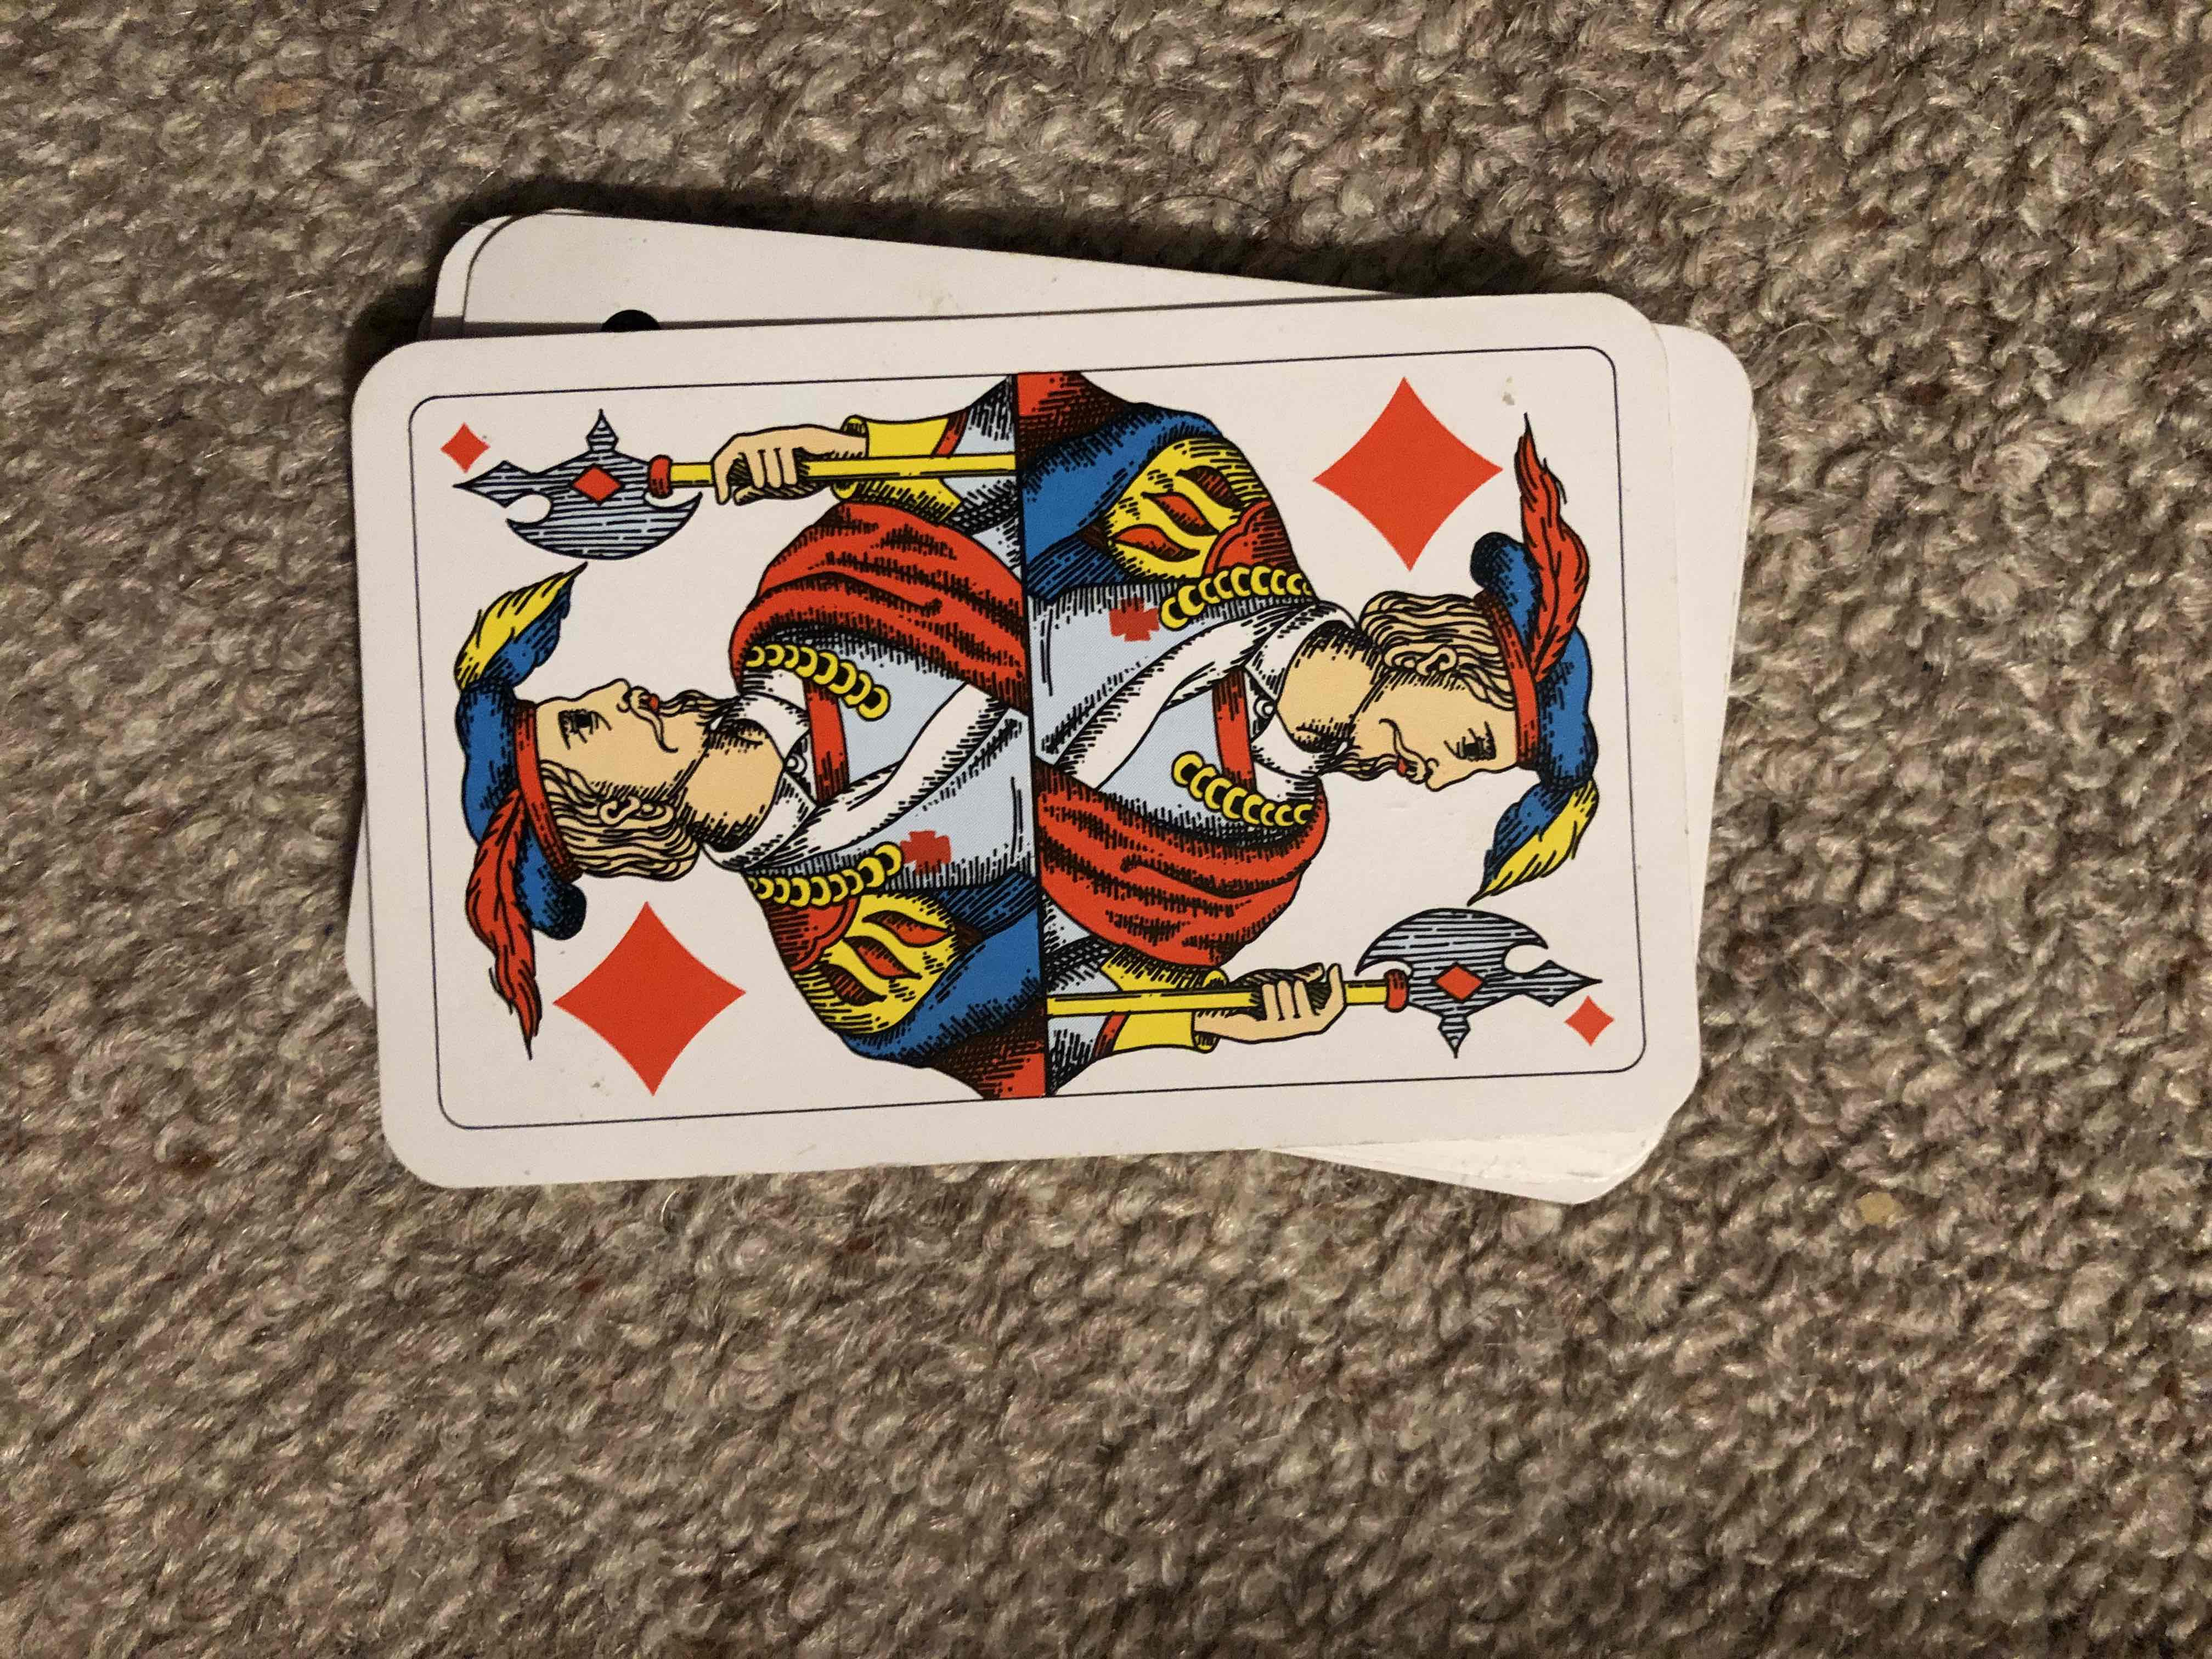diamondJack: (366, 282, 1693, 1119)
